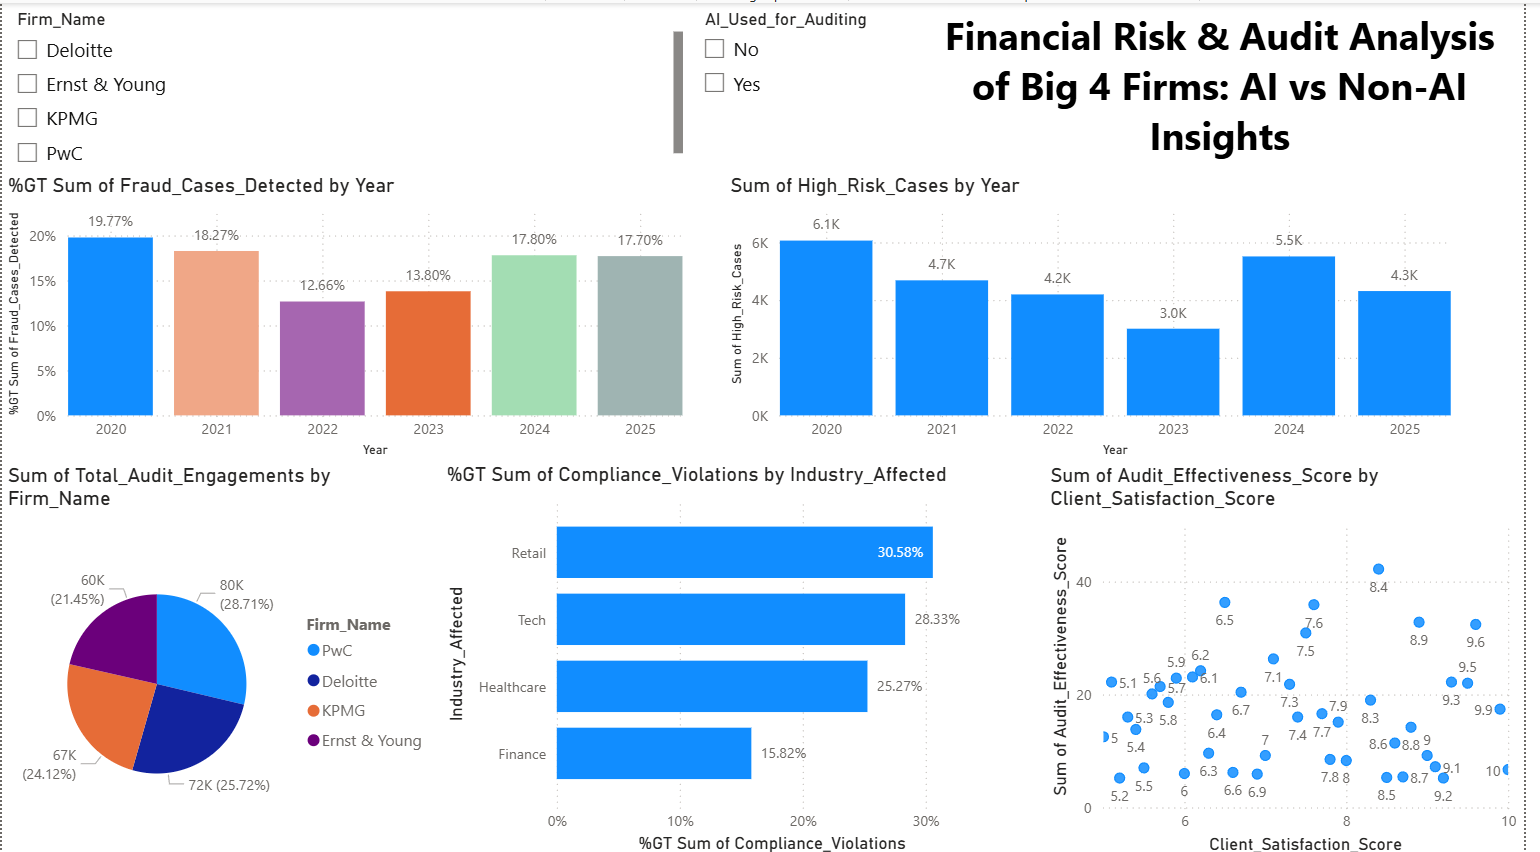

Layout of this report page (visuals, bound fields, positions):
{"tool":"powerbi","page":{"name":"Page 1","canvas":[1280,720],"ordinal":0},"visuals":[{"type":"columnChart","fields":{"Y":["Sum(big4_financial_risk_compliance.Fraud_Cases_Detected)"],"Category":["big4_financial_risk_compliance.Year"]},"box":[0,143.3,577.5,243.9],"z":0},{"type":"slicer","fields":{"Values":["big4_financial_risk_compliance.AI_Used_for_Auditing"]},"box":[577.9,0,701.2,143],"z":1000},{"type":"pieChart","fields":{"Y":["Sum(big4_financial_risk_compliance.Total_Audit_Engagements)"],"Category":["big4_financial_risk_compliance.Firm_Name"]},"box":[0,387.2,367.9,333.7],"z":2000},{"type":"clusteredColumnChart","fields":{"Y":["Sum(big4_financial_risk_compliance.High_Risk_Cases)"],"Category":["big4_financial_risk_compliance.Year"]},"box":[607.5,143.3,616.1,243.9],"z":3000},{"type":"clusteredBarChart","fields":{"Y":["Sum(big4_financial_risk_compliance.Compliance_Violations)"],"Category":["big4_financial_risk_compliance.Industry_Affected"]},"box":[367.9,387.2,477,333.7],"z":4000},{"type":"slicer","fields":{"Values":["big4_financial_risk_compliance.Firm_Name"]},"box":[0,0,577.9,143],"z":5000},{"type":"scatterChart","fields":{"Y":["Sum(big4_financial_risk_compliance.Audit_Effectiveness_Score)"],"X":["big4_financial_risk_compliance.Client_Satisfaction_Score"]},"box":[877,387.2,402.1,333.7],"z":6000}]}

Visuals, with their boxes in screenshot pixels (x1, y1, x2, y2), scaled from the page's 1280x720 canvas onto the 1540x852 screenshot:
columnChart - Sum(big4_financial_risk_compliance.Fraud_Cases_Detected) x big4_financial_risk_compliance.Year: [left=0, top=170, right=695, bottom=458]
slicer - big4_financial_risk_compliance.AI_Used_for_Auditing: [left=695, top=0, right=1539, bottom=169]
pieChart - Sum(big4_financial_risk_compliance.Total_Audit_Engagements) x big4_financial_risk_compliance.Firm_Name: [left=0, top=458, right=443, bottom=851]
clusteredColumnChart - Sum(big4_financial_risk_compliance.High_Risk_Cases) x big4_financial_risk_compliance.Year: [left=731, top=170, right=1472, bottom=458]
clusteredBarChart - Sum(big4_financial_risk_compliance.Compliance_Violations) x big4_financial_risk_compliance.Industry_Affected: [left=443, top=458, right=1017, bottom=851]
slicer - big4_financial_risk_compliance.Firm_Name: [left=0, top=0, right=695, bottom=169]
scatterChart - Sum(big4_financial_risk_compliance.Audit_Effectiveness_Score) x big4_financial_risk_compliance.Client_Satisfaction_Score: [left=1055, top=458, right=1539, bottom=851]
